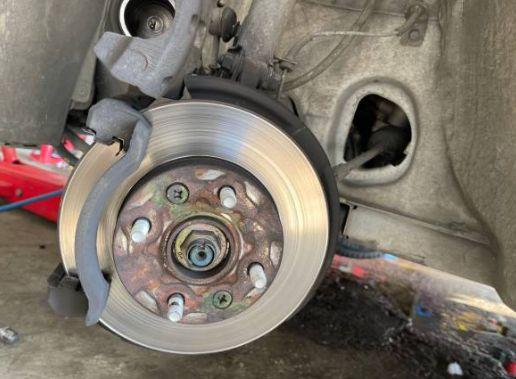automobile: (54, 91, 345, 360)
